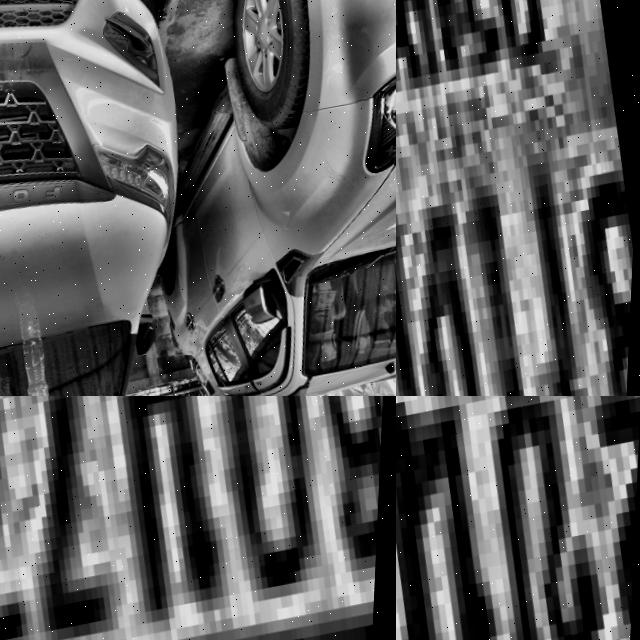license-plate: (396, 0, 640, 396), (0, 396, 396, 640), (396, 396, 640, 640)
